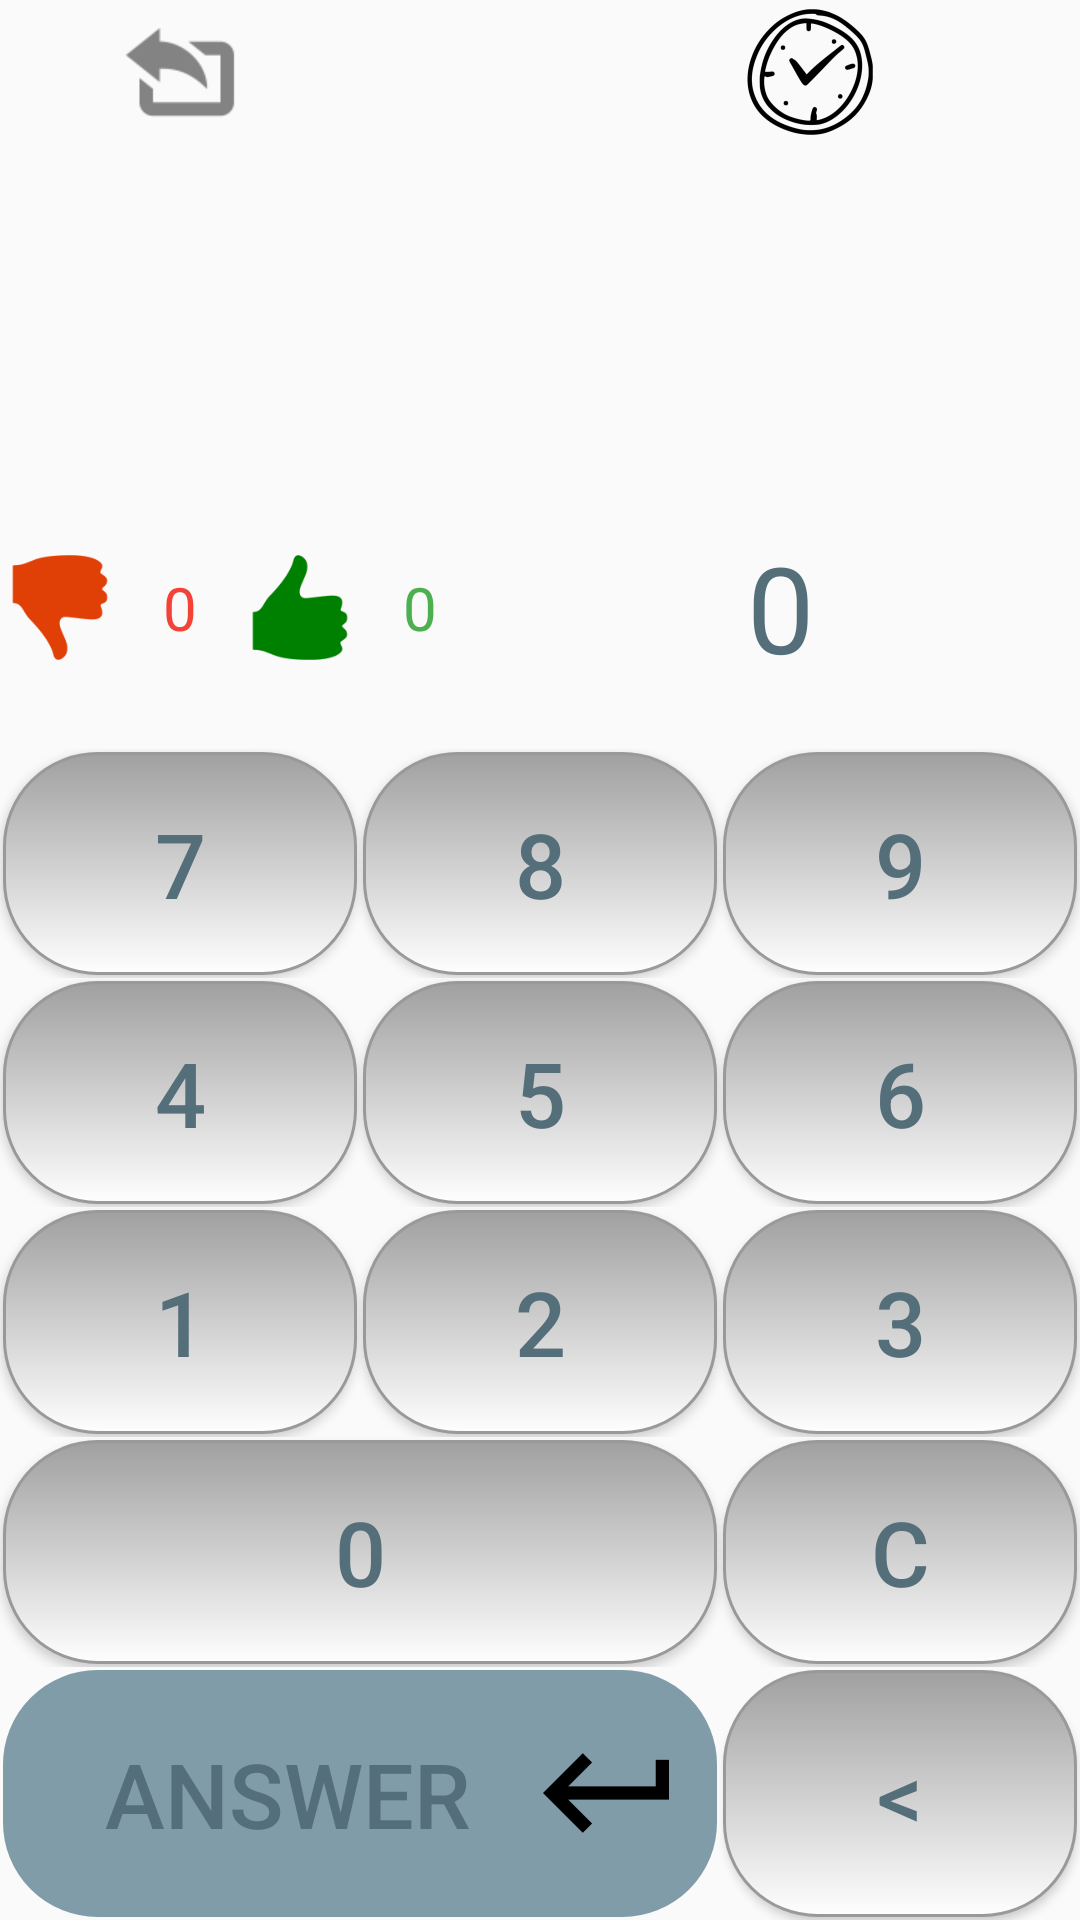

Point at icon controls on the screen. Image size 1080 x 1920, points as (x=x, y=y).
back: (x=180, y=72)
correct: (x=300, y=607)
incorrect: (x=60, y=607)
timer: (x=810, y=72)
